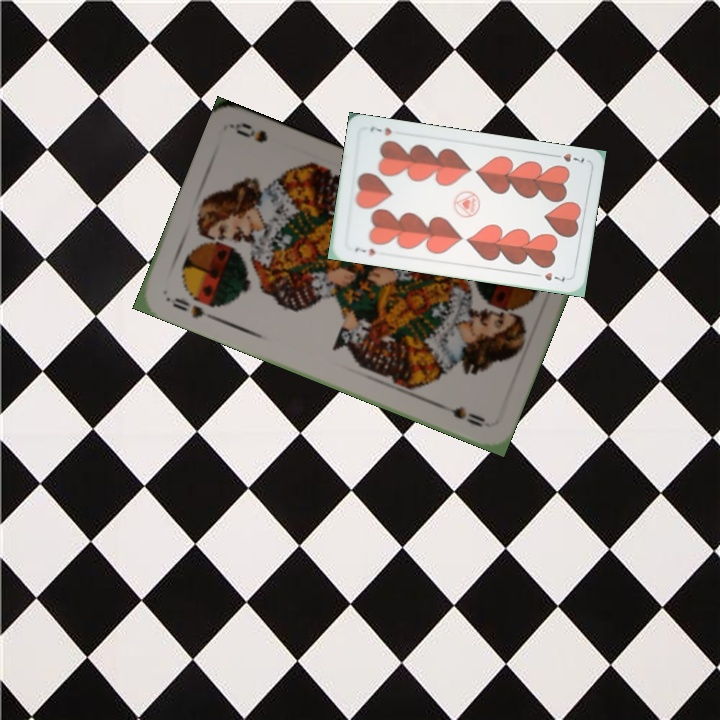H7: (548, 149, 587, 166), (350, 243, 378, 258)
SO: (168, 293, 219, 323)
